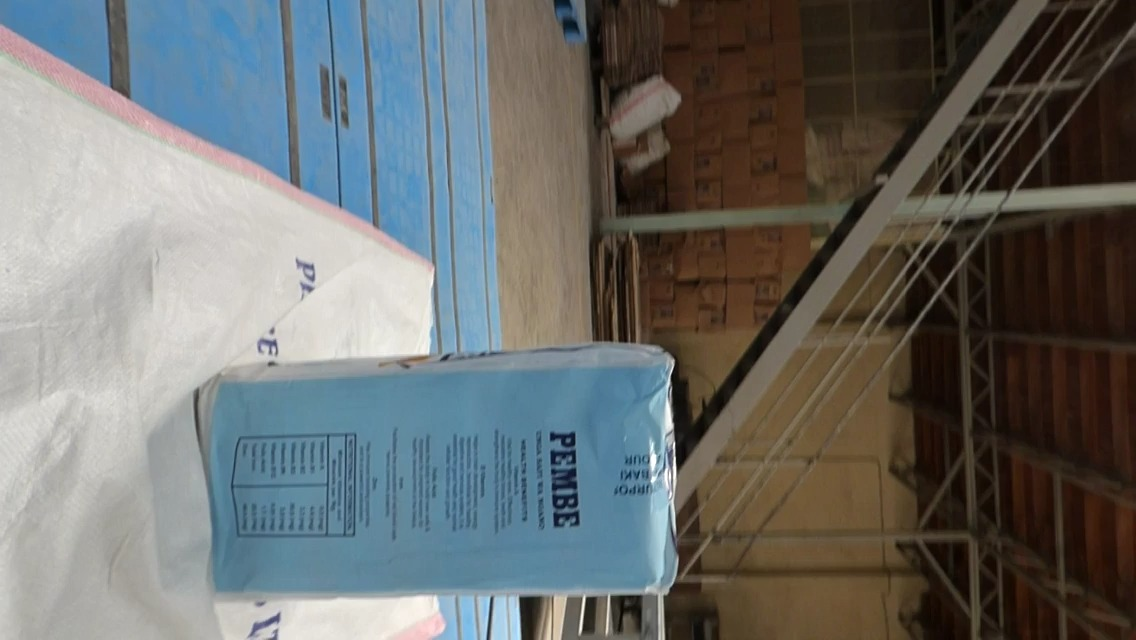wheat_flour_blue_label: (192, 344, 674, 595)
